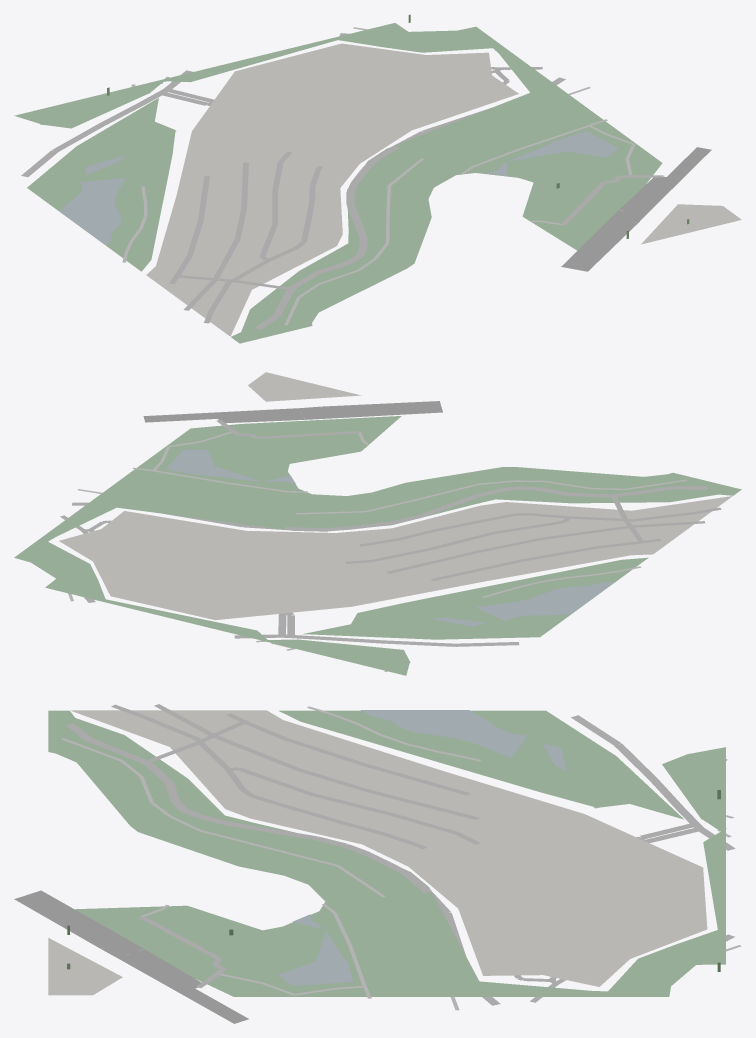
The picture shows the model from 3 angles, top to bottom: view 1: azimuth 30°, elevation 25°; view 2: azimuth 150°, elevation 25°; view 3: azimuth 270°, elevation 25°; orthographic projection. The views are drawn at different scales.
Bounding box in the file's own units: 558 × 10.19 × 537.
